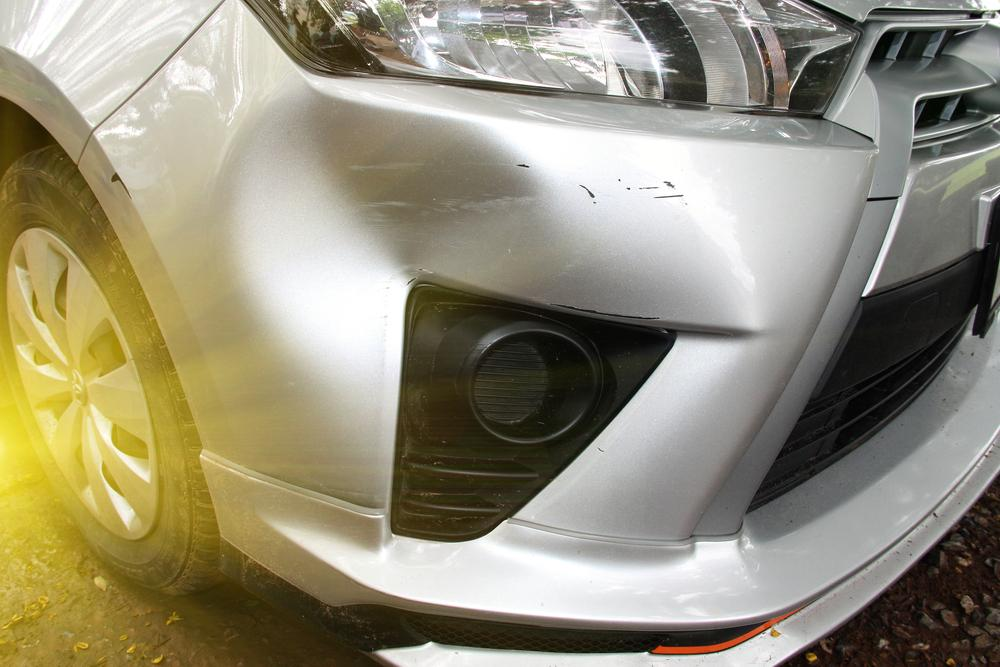dent: (233, 89, 558, 409)
scratch: (576, 174, 692, 211)
